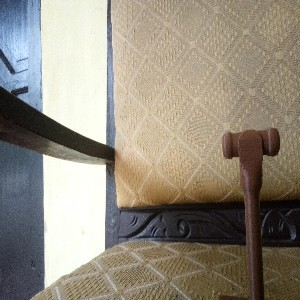palu: (221, 126, 281, 300)
